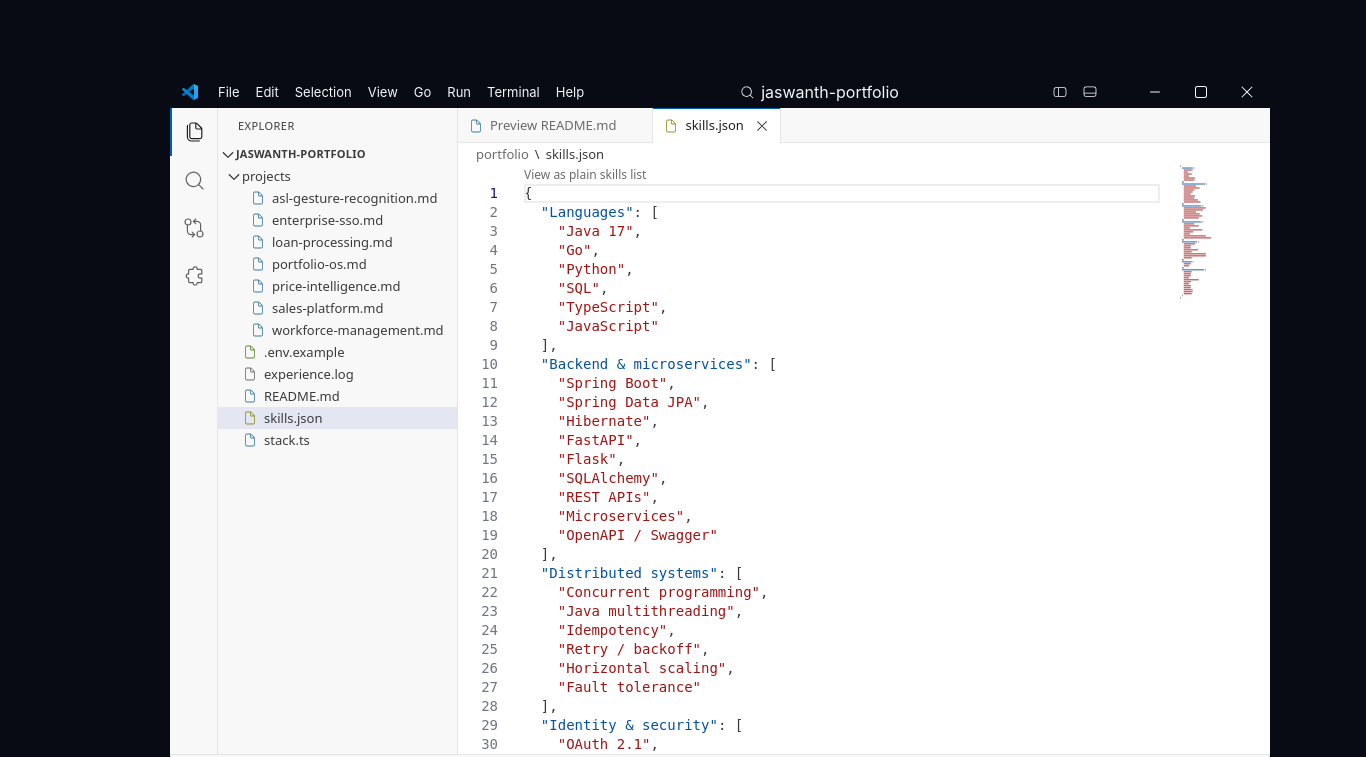
Test: WIN-CODE-04 backslash paths and the PowerShell terminal panel › breadcrumbs and tab tooltips use C:\Users\{given name}\portfolio with backslashes
The image size is (1366, 757).
Click the list item "portfolio-os.md": (308, 264) [250,255,367,273]
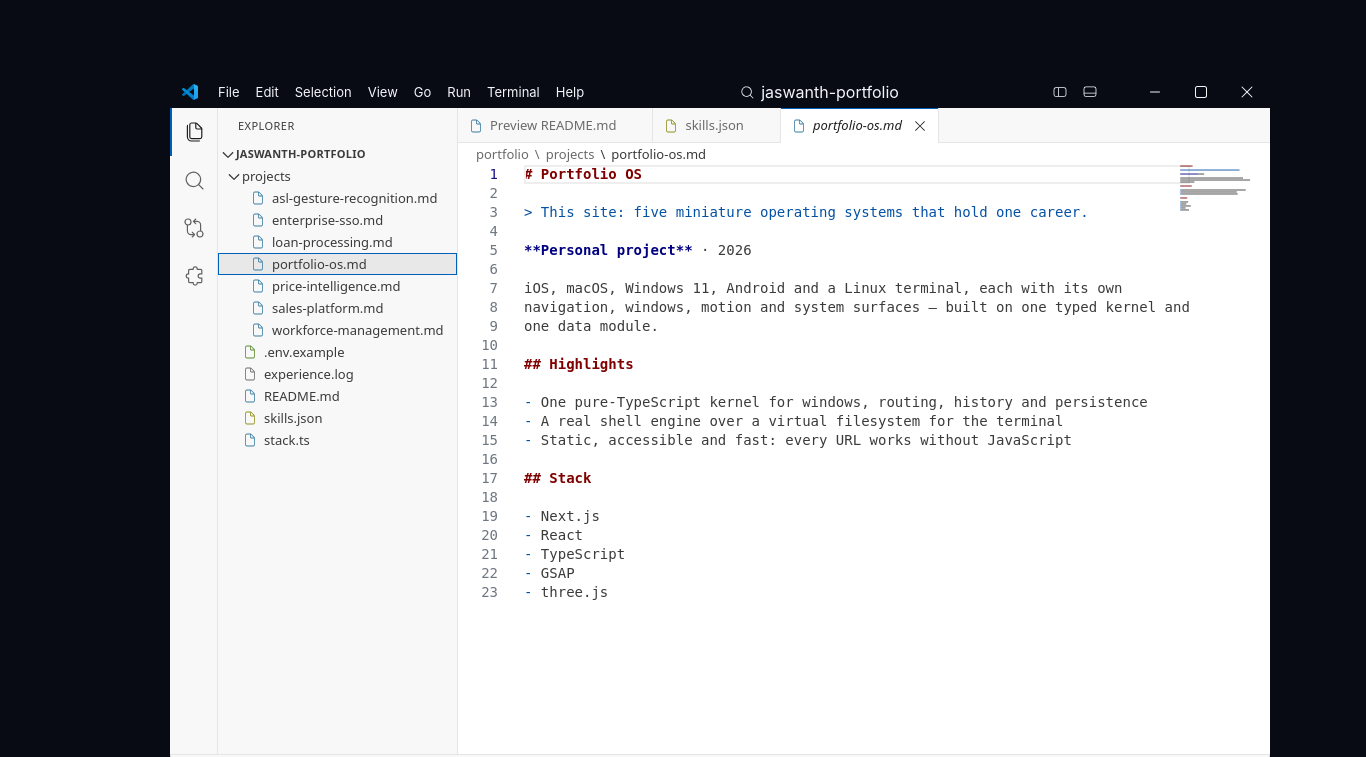
expect the list named "Breadcrumbs" reads "portfolio \\ projects \\ portfolio-os.md": met, box [476,145,706,163]
